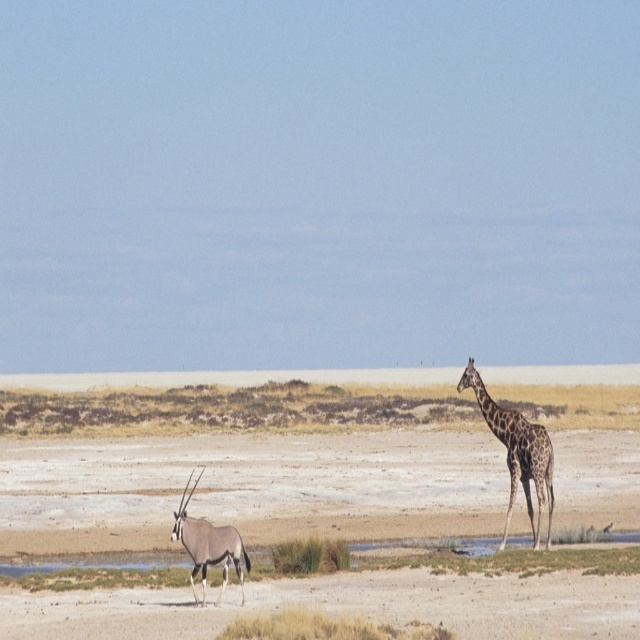Giraffe: (452, 352, 561, 551)
